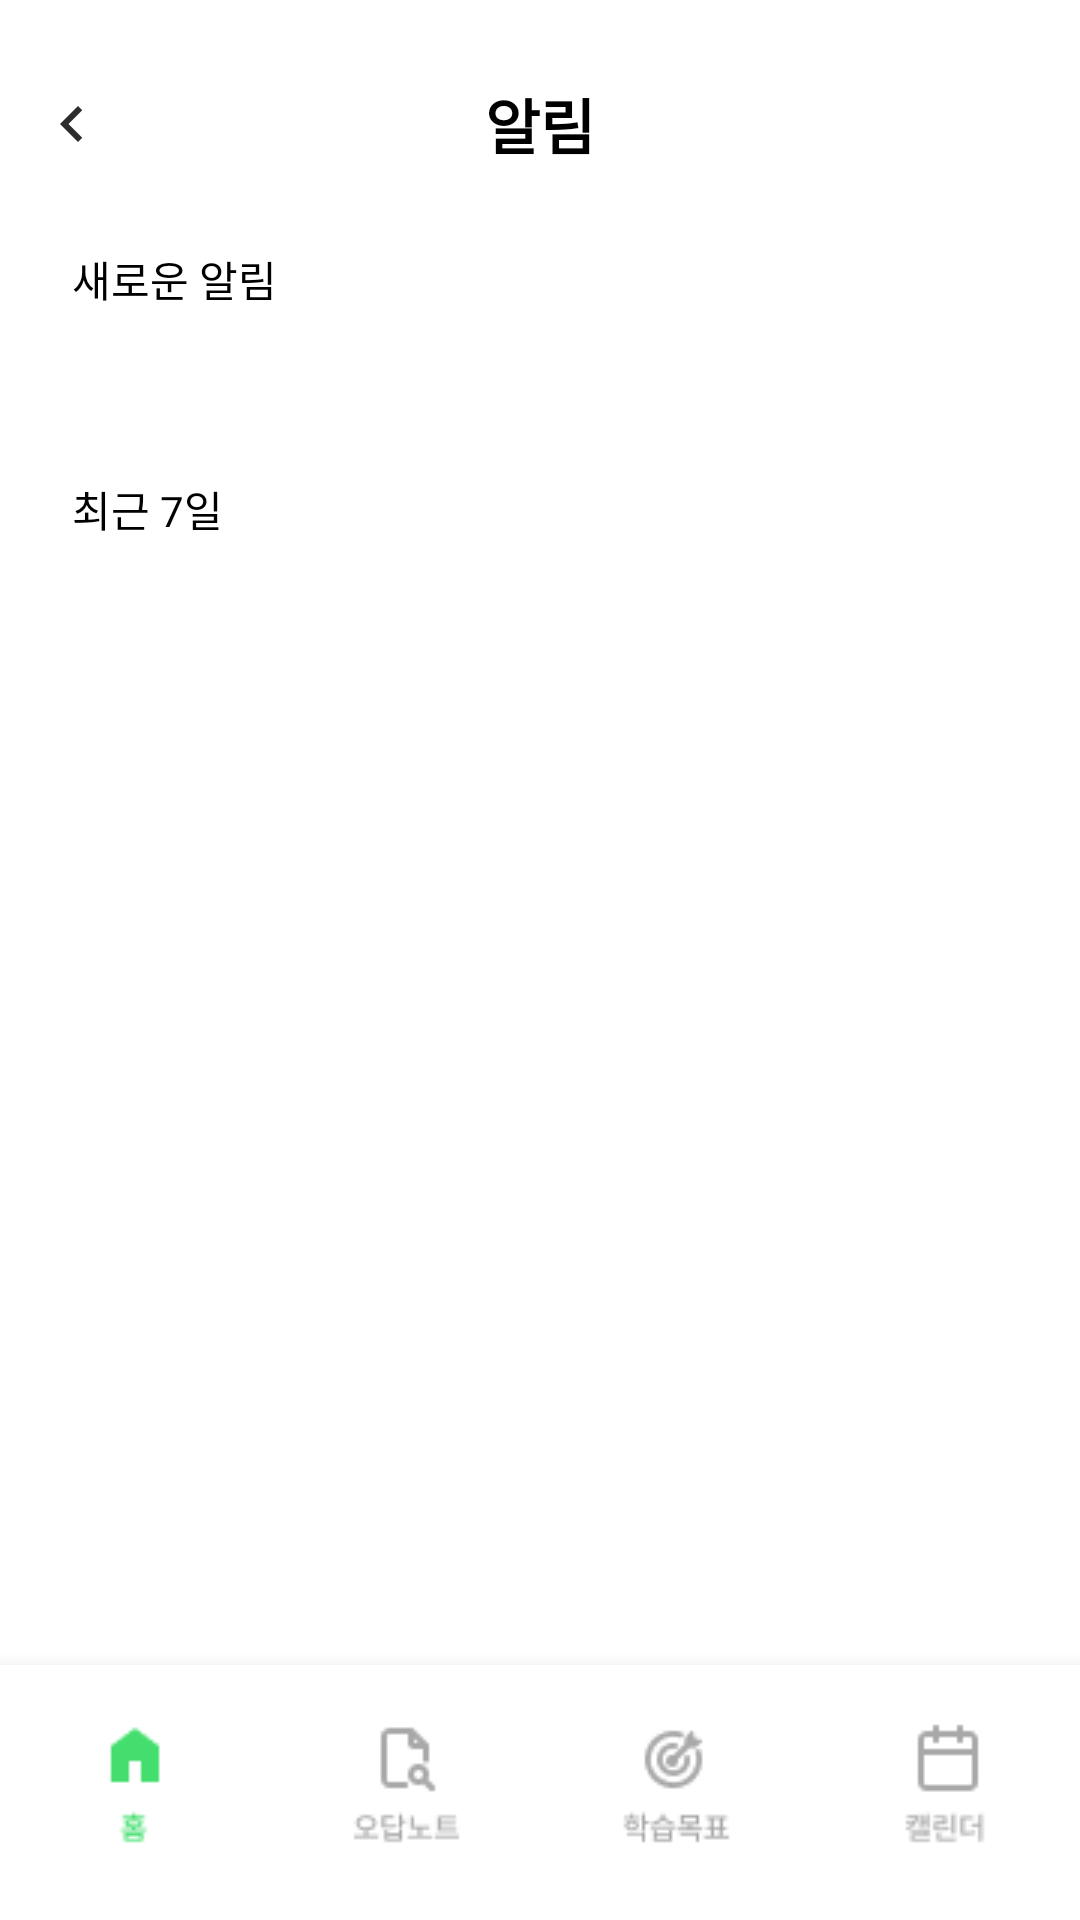

Locate icon controls on the screen. Image size 1080px x 1920px, boxes as detection(x1, y1, x2, y2).
before: detection(60, 106, 82, 142)
